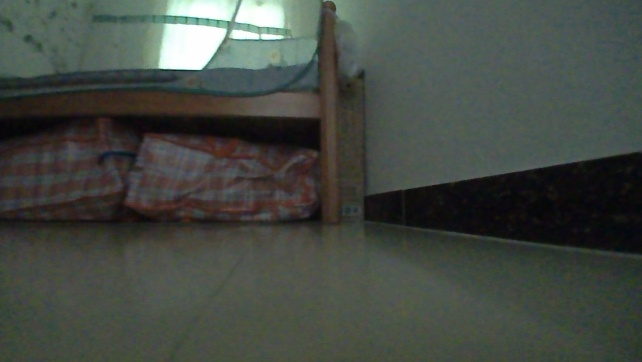bed1: (0, 0, 353, 226)
